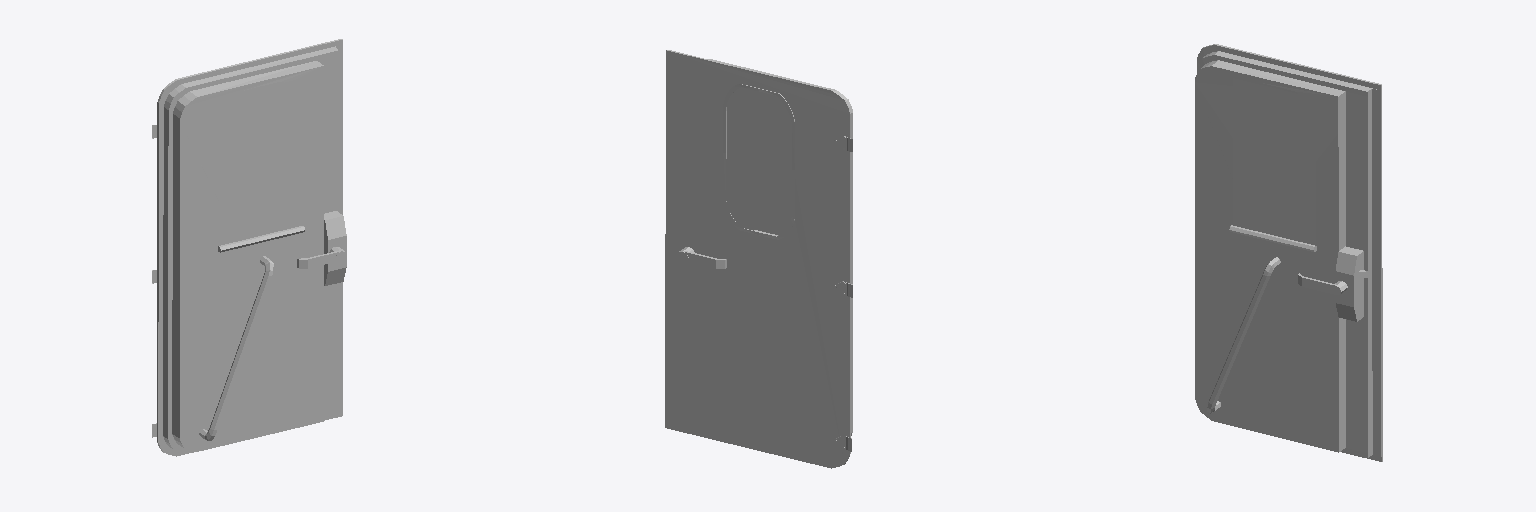
File: rightbackdoor.obj
3 renders of one model, left to right at view 1: azimuth 30°, elevation 25°; view 2: azimuth 150°, elevation 25°; view 3: azimuth 330°, elevation 25°, orthographic.
Visible parts, largest first — view 1: door_buzd_right_rear_Circle.000, curtain_Plane.000, door_handle_buzd_inner_Cube.000; view 2: door_buzd_right_rear_Circle.000, door_window_Mesh.000, door_handle_buzd_exterior_Cube.000; view 3: door_buzd_right_rear_Circle.000, curtain_Plane.000, door_handle_buzd_inner_Cube.000.
Boxes of the visible parts, x1,y1,x2,y2 form: door_buzd_right_rear_Circle.000: [152, 39, 346, 456]; curtain_Plane.000: [219, 78, 302, 245]; door_handle_buzd_inner_Cube.000: [297, 247, 346, 268]; door_buzd_right_rear_Circle.000: [665, 50, 852, 468]; door_window_Mesh.000: [723, 84, 794, 239]; door_handle_buzd_exterior_Cube.000: [677, 247, 726, 268]; door_buzd_right_rear_Circle.000: [1195, 44, 1382, 461]; curtain_Plane.000: [1233, 78, 1315, 245]; door_handle_buzd_inner_Cube.000: [1298, 273, 1347, 294].
Bounding box in the file's own units: 0.7148 × 1.37 × 0.1955.